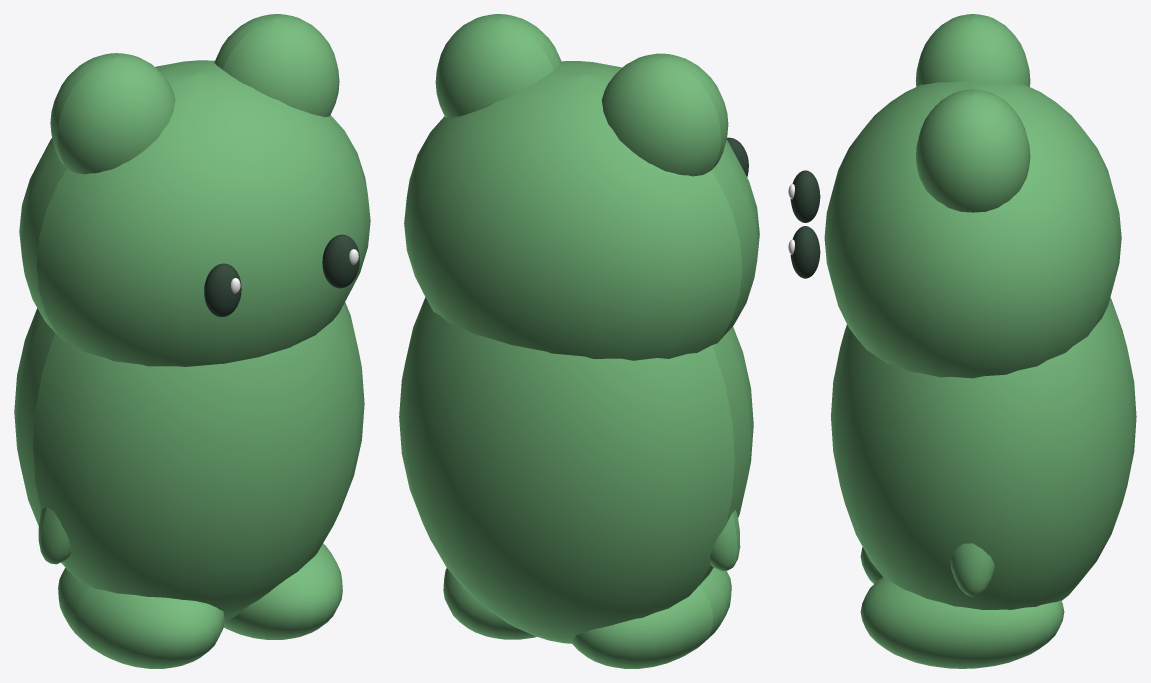
3 renders of one model, left to right at view 1: azimuth 30°, elevation 25°; view 2: azimuth 150°, elevation 25°; view 3: azimuth 270°, elevation 25°, orthographic. The views are drawn at different scales.
Bounding box in the file's own units: 1.66 × 2.99 × 1.64.
